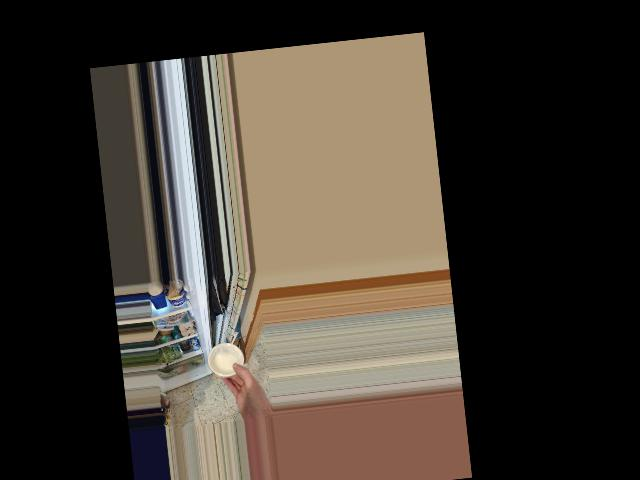cotage: (206, 339, 243, 380)
